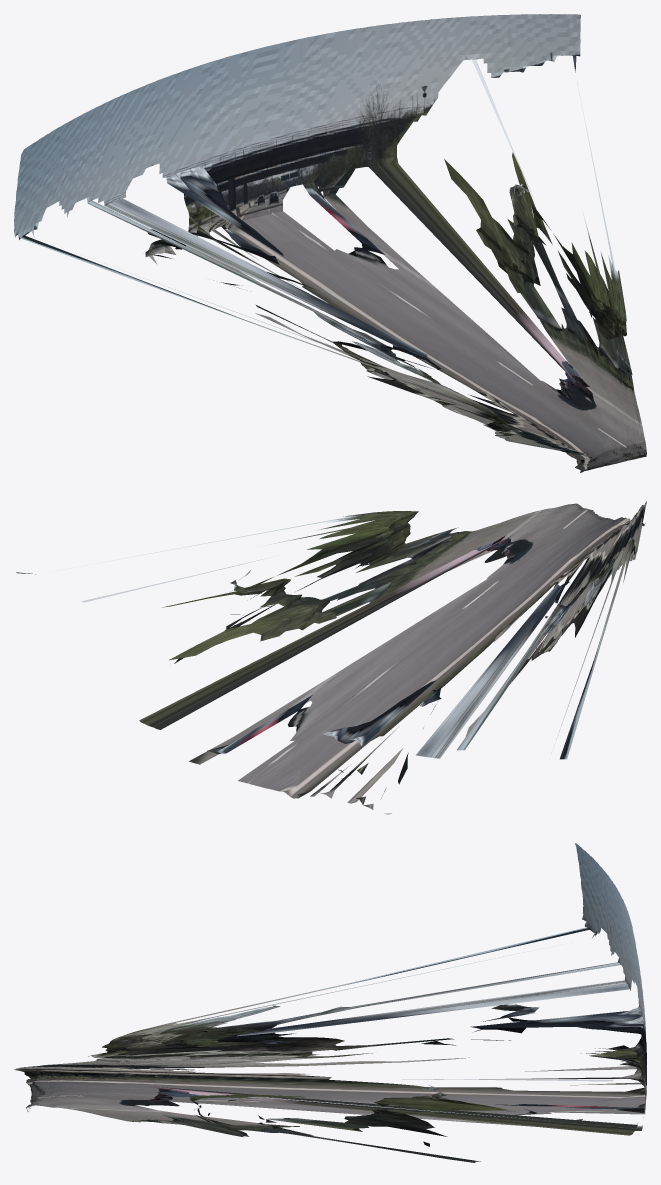
3 renders of one model, top to bottom at view 1: azimuth 30°, elevation 25°; view 2: azimuth 150°, elevation 25°; view 3: azimuth 270°, elevation 25°, orthographic. The views are drawn at different scales.
Parts seen in each view (by area): view 1: defaultobject; view 2: defaultobject; view 3: defaultobject.
Part boxes in pixels (<box>): defaultobject: <box>14,14,646,472</box>; defaultobject: <box>16,501,646,814</box>; defaultobject: <box>14,843,646,1162</box>.
Bounding box in the file's own units: 40.95 × 12.72 × 45.32.
Materials: 1 (1 with a texture image).
